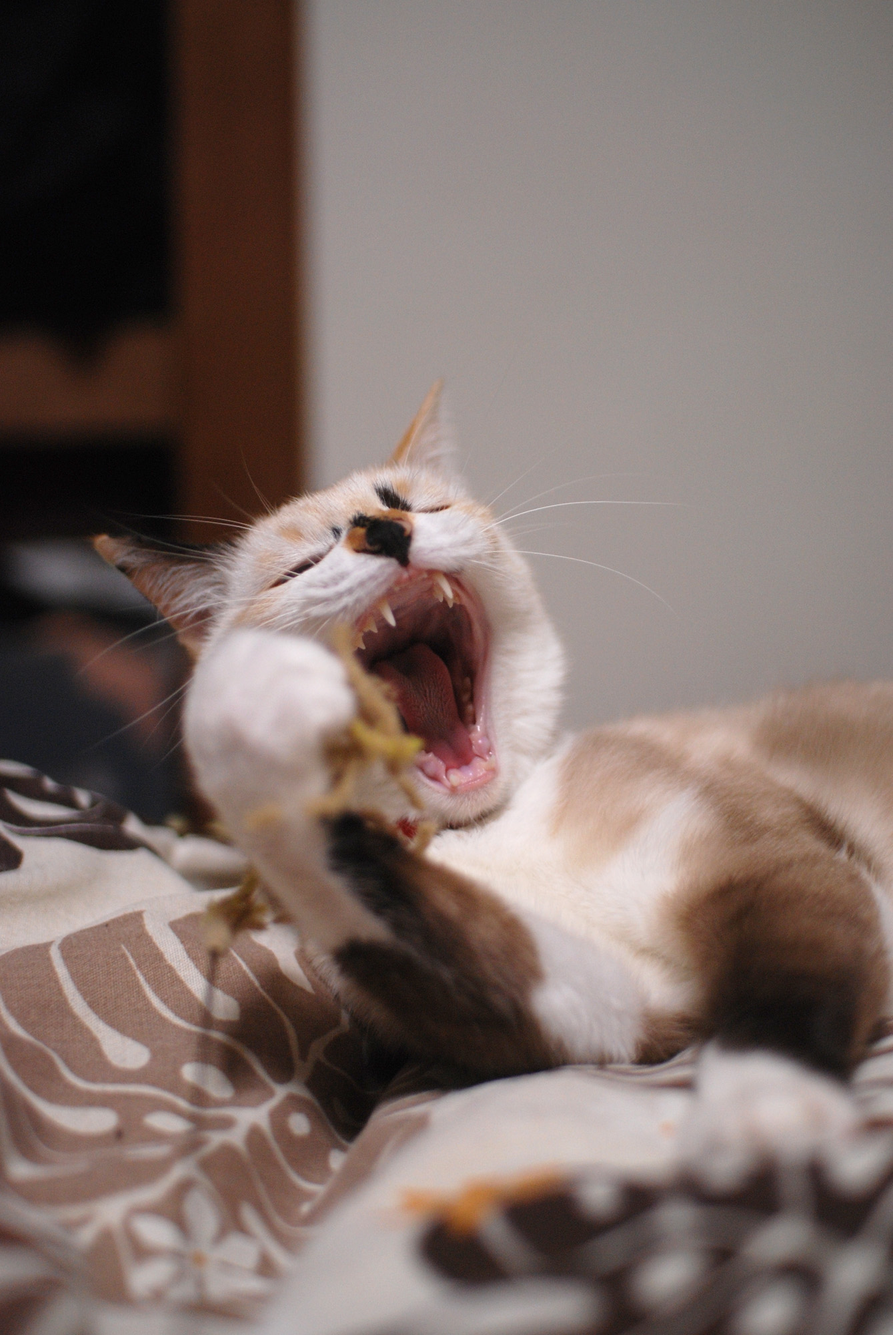cat: (77, 380, 892, 1077)
